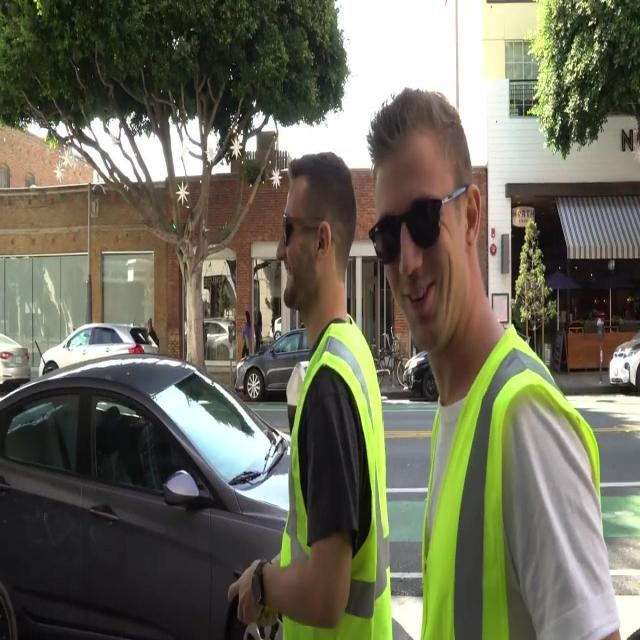Vest: (420, 324, 604, 639), (280, 314, 393, 639)
